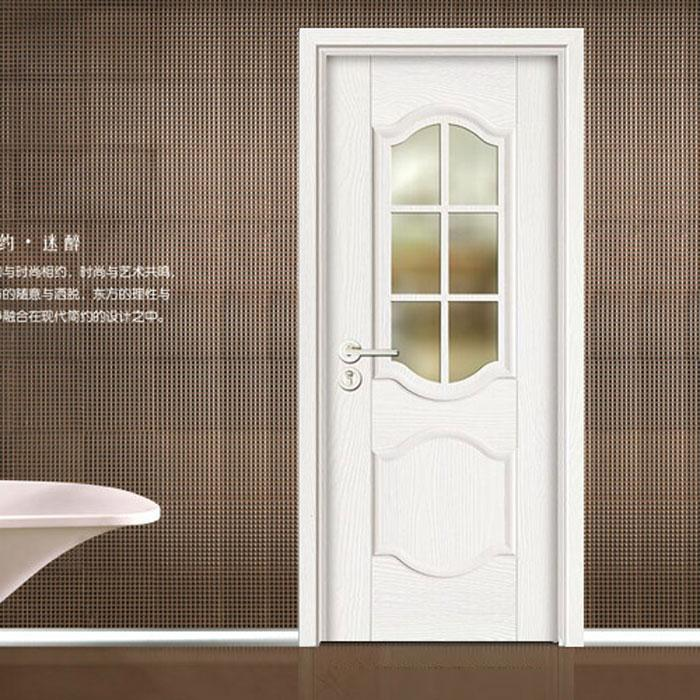door: (328, 56, 558, 644)
